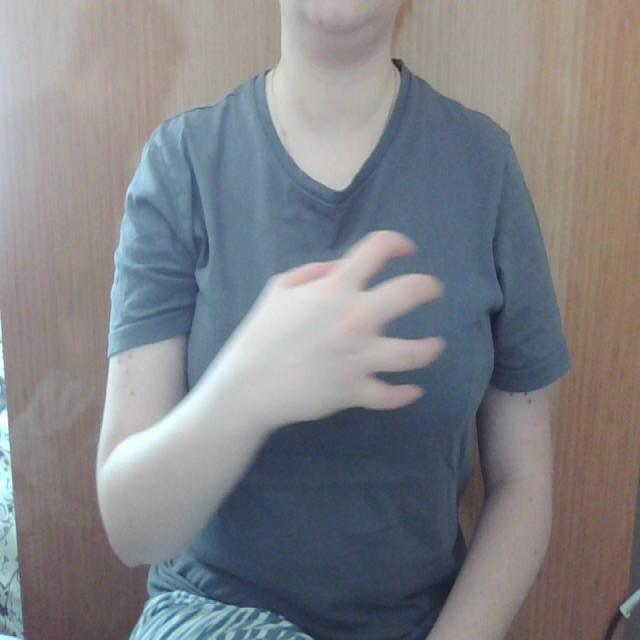Anne: (230, 212, 465, 420)
